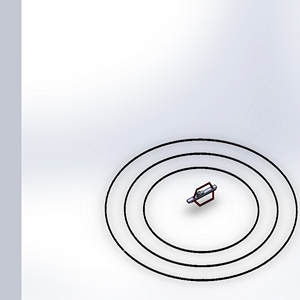circle: (101, 133, 299, 287)
submarine: (179, 178, 230, 221)
